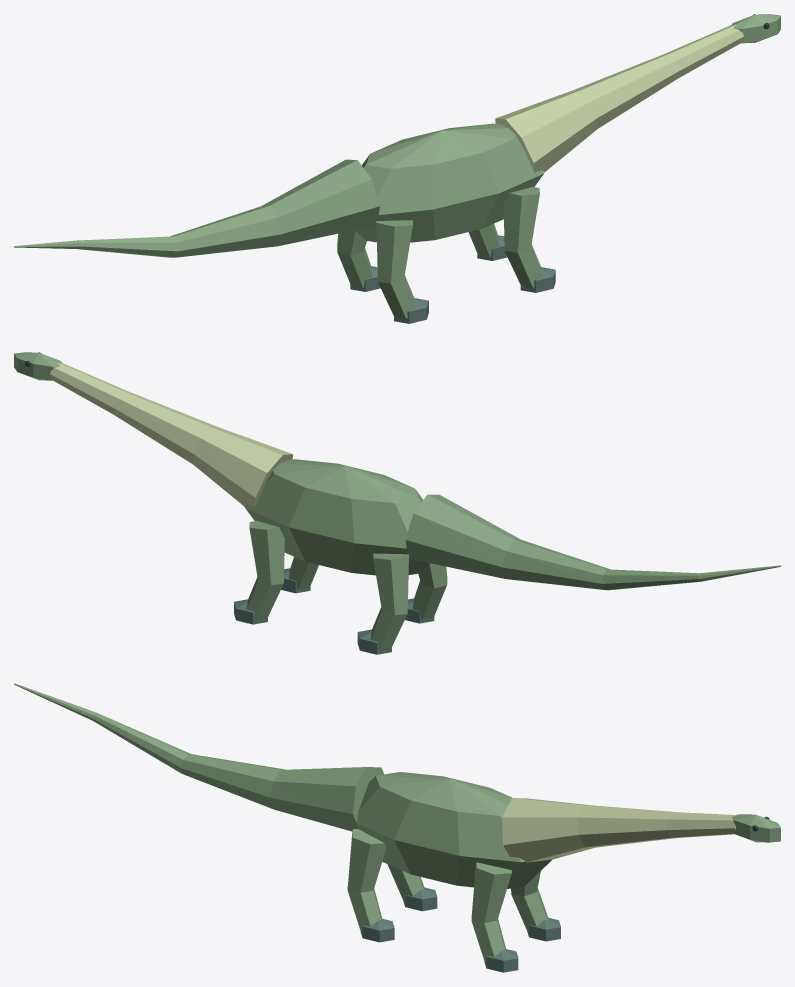
The model's file is diplodocus.6e0c68f0ff60.glb.
3 views of the same model, one above another, from view 1: azimuth 30°, elevation 25°; view 2: azimuth 150°, elevation 25°; view 3: azimuth 330°, elevation 25° (orthographic). The views are drawn at different scales.
Visible parts, largest first — view 1: diplodocus; view 2: diplodocus; view 3: diplodocus.
Boxes of the visible parts, left/top/right/bottom form: diplodocus: left=14, top=14, right=780, bottom=323; diplodocus: left=14, top=352, right=780, bottom=654; diplodocus: left=14, top=683, right=780, bottom=972.
Bounding box in the file's own units: 1 × 0.2503 × 0.1268.
